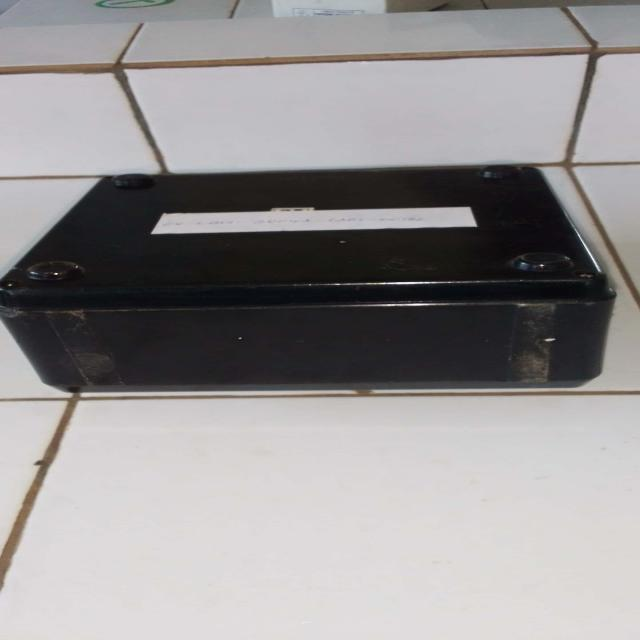Ammeter Analog: (22, 167, 620, 402)
